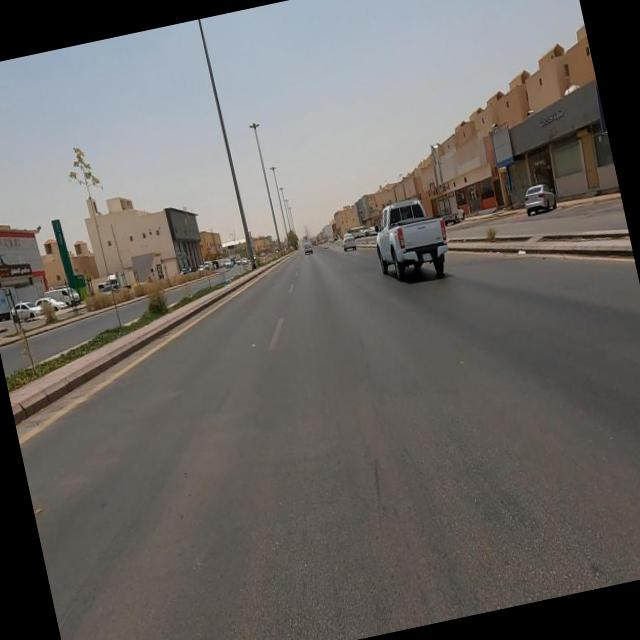debris: (448, 92, 550, 202)
